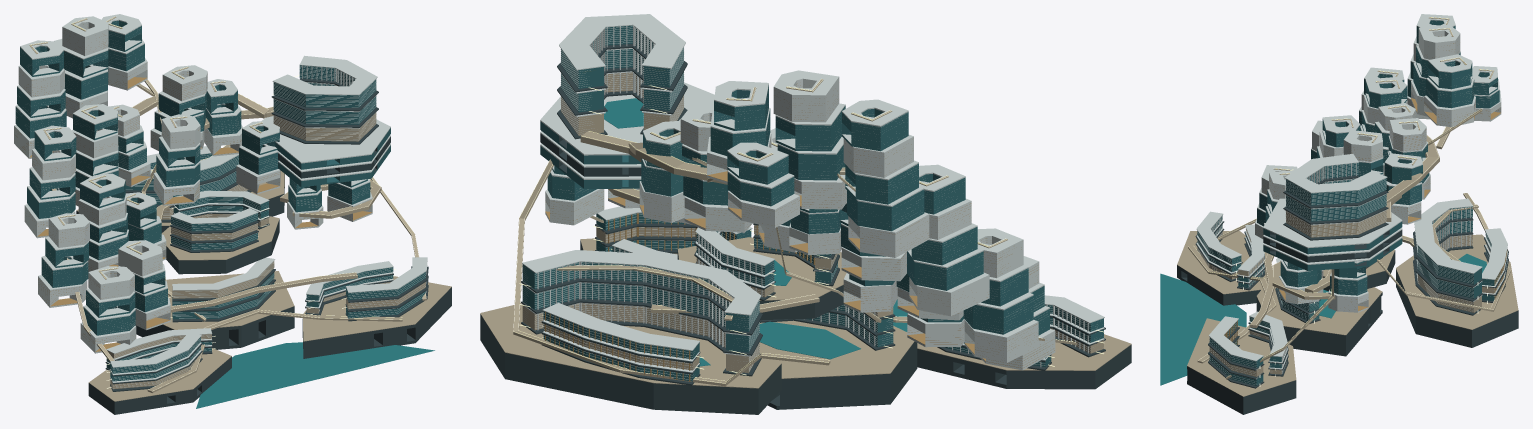
The model's file is R19_REVISION_1.glb.
3 renders of one model, left to right at view 1: azimuth 30°, elevation 25°; view 2: azimuth 150°, elevation 25°; view 3: azimuth 270°, elevation 25°, orthographic. The views are drawn at different scales.
Parts seen in each view (by area): view 1: A_INLAND_SEA, A_EAST_deep_public_land, A_EAST_public_surface, A_INNER_deep_public_land, D_EAST_SKY_CITY_inhabited_depth_2, A_WEST_deep_public_land, D_EAST_SHARED_PUBLIC_GROUND_2, D_EAST_SKY_CITY_roof_avenue_2, A_WEST_public_surface, A_INNER_public_surface, F_INNER_CITY_deep_public_land, D_EAST_SKY_CITY_inhabited_depth_1 (+74 smaller); view 2: C_REAR_DELTA_deep_public_land, C_REAR_DELTA_public_surface, A_INNER_deep_public_land, A_WEST_deep_public_land, C_REAR_CIVILIZATION_roof_avenue_2, A_INNER_public_surface, D_EAST_SKY_CITY_roof_avenue_2, C_REAR_CIVILIZATION_inhabited_depth_1, C_REAR_CIVILIZATION_inhabited_depth_0, C_REAR_CIVILIZATION_inhabited_depth_2, T_REAR_LINK_public_deck, A_PUBLIC_RESERVOIR (+76 smaller); view 3: A_INLAND_SEA, C_REAR_DELTA_public_surface, A_EAST_public_surface, C_REAR_DELTA_deep_public_land, A_INNER_deep_public_land, A_EAST_deep_public_land, D_EAST_SKY_CITY_inhabited_depth_2, A_WEST_public_surface, D_EAST_SKY_CITY_roof_avenue_2, C_REAR_CIVILIZATION_roof_avenue_2, A_INNER_public_surface, D_EAST_SHARED_PUBLIC_GROUND_2 (+56 smaller).
Boxes of the visible parts, x1,y1,x2,y2 form: A_INLAND_SEA: [196, 342, 434, 408]; A_EAST_deep_public_land: [302, 287, 451, 358]; A_EAST_public_surface: [302, 276, 451, 341]; A_INNER_deep_public_land: [135, 306, 294, 349]; D_EAST_SKY_CITY_inhabited_depth_2: [273, 65, 376, 107]; A_WEST_deep_public_land: [88, 356, 231, 414]; D_EAST_SHARED_PUBLIC_GROUND_2: [261, 116, 390, 163]; D_EAST_SKY_CITY_roof_avenue_2: [272, 55, 377, 95]; A_WEST_public_surface: [88, 348, 231, 401]; A_INNER_public_surface: [163, 271, 294, 329]; F_INNER_CITY_deep_public_land: [166, 219, 279, 274]; D_EAST_SKY_CITY_inhabited_depth_1: [273, 82, 376, 124]; C_REAR_DELTA_deep_public_land: [480, 314, 781, 414]; C_REAR_DELTA_public_surface: [480, 303, 781, 388]; A_INNER_deep_public_land: [767, 341, 917, 409]; A_WEST_deep_public_land: [917, 344, 1131, 389]; C_REAR_CIVILIZATION_roof_avenue_2: [522, 250, 761, 315]; A_INNER_public_surface: [759, 320, 914, 378]; D_EAST_SKY_CITY_roof_avenue_2: [559, 14, 685, 70]; C_REAR_CIVILIZATION_inhabited_depth_1: [522, 282, 759, 352]; C_REAR_CIVILIZATION_inhabited_depth_0: [522, 303, 759, 373]; C_REAR_CIVILIZATION_inhabited_depth_2: [522, 262, 759, 331]; T_REAR_LINK_public_deck: [513, 160, 830, 386]; A_PUBLIC_RESERVOIR: [759, 321, 860, 359]; A_INLAND_SEA: [1160, 273, 1246, 385]; C_REAR_DELTA_public_surface: [1396, 234, 1518, 329]; A_EAST_public_surface: [1187, 318, 1296, 396]; C_REAR_DELTA_deep_public_land: [1396, 269, 1518, 347]; A_INNER_deep_public_land: [1256, 292, 1382, 356]; A_EAST_deep_public_land: [1187, 366, 1296, 414]; D_EAST_SKY_CITY_inhabited_depth_2: [1286, 163, 1386, 205]; A_WEST_public_surface: [1177, 231, 1267, 294]; D_EAST_SKY_CITY_roof_avenue_2: [1284, 154, 1387, 193]; C_REAR_CIVILIZATION_roof_avenue_2: [1414, 198, 1482, 273]; A_INNER_public_surface: [1256, 282, 1382, 335]; D_EAST_SHARED_PUBLIC_GROUND_2: [1263, 198, 1402, 248].
Bounding box in the file's own units: 6100 × 4311 × 5400.
